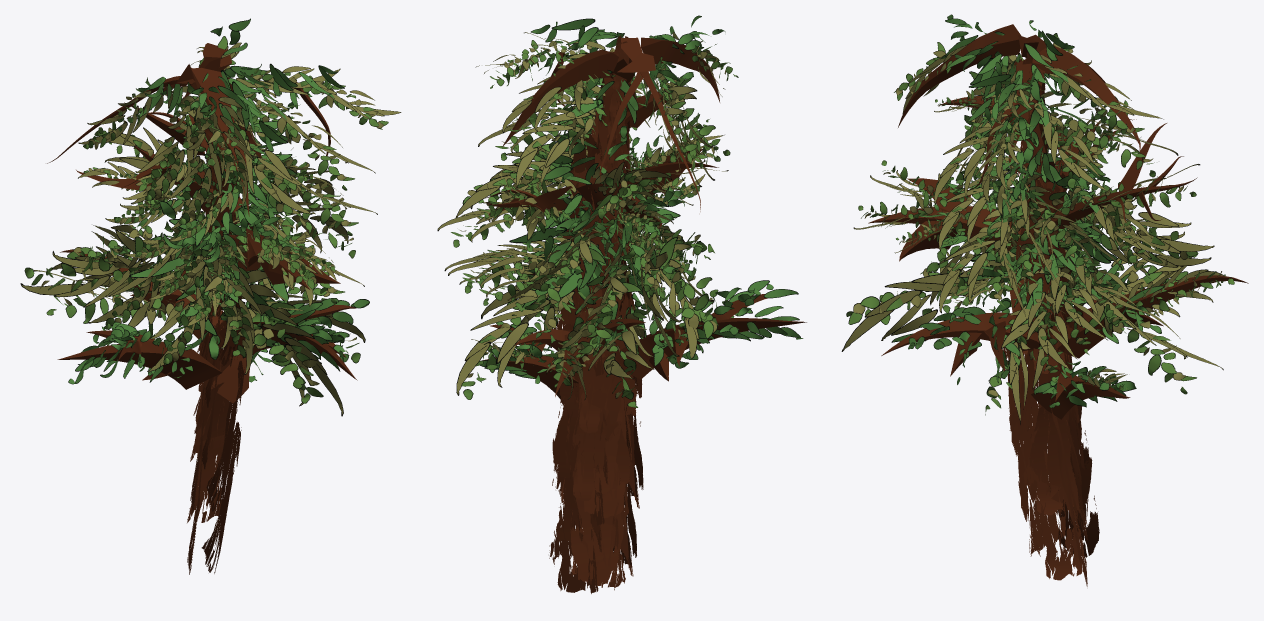
The model's file is sketch.gltf.
3 renders of one model, left to right at view 1: azimuth 30°, elevation 25°; view 2: azimuth 150°, elevation 25°; view 3: azimuth 270°, elevation 25°, orthographic.
Visible parts, largest first — view 1: brush_CelVinyl_g0_b0, brush_Spikes_g0_b0, brush_ThickPaint_g0_b0; view 2: brush_CelVinyl_g0_b0, brush_ThickPaint_g0_b0, brush_Spikes_g0_b0; view 3: brush_CelVinyl_g0_b0, brush_Spikes_g0_b0, brush_ThickPaint_g0_b0.
Part boxes in pixels (x1,y1,x2,y2): brush_CelVinyl_g0_b0: (20, 18, 401, 416); brush_Spikes_g0_b0: (47, 43, 357, 403); brush_ThickPaint_g0_b0: (187, 64, 252, 574); brush_CelVinyl_g0_b0: (437, 15, 803, 407); brush_ThickPaint_g0_b0: (549, 35, 643, 593); brush_Spikes_g0_b0: (483, 37, 806, 401); brush_CelVinyl_g0_b0: (841, 14, 1234, 424); brush_Spikes_g0_b0: (868, 24, 1248, 419); brush_ThickPaint_g0_b0: (1000, 52, 1099, 586).
Size of the model in its own units: 1.28 by 2.07 by 1.35.
Materials: 3 (2 with a texture image).
